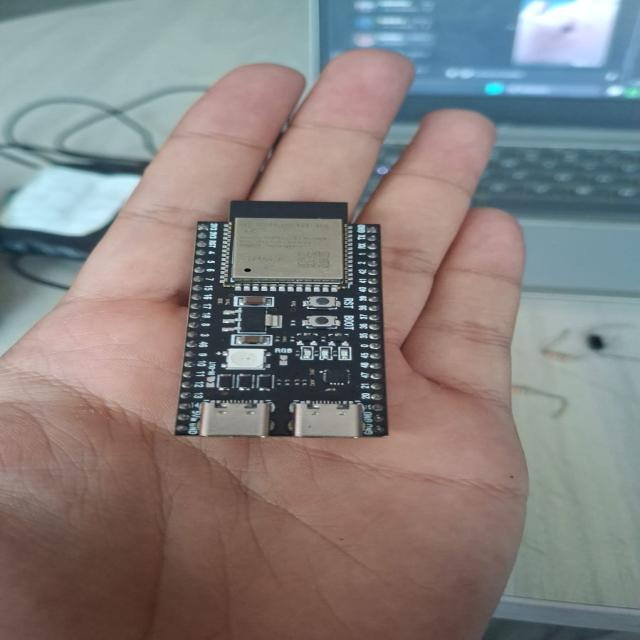ESP32: (174, 202, 387, 438)
